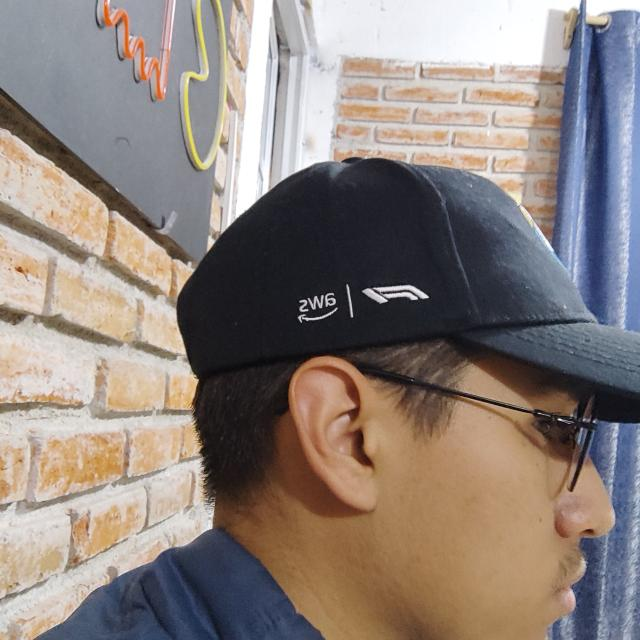ear: (286, 356, 390, 511)
